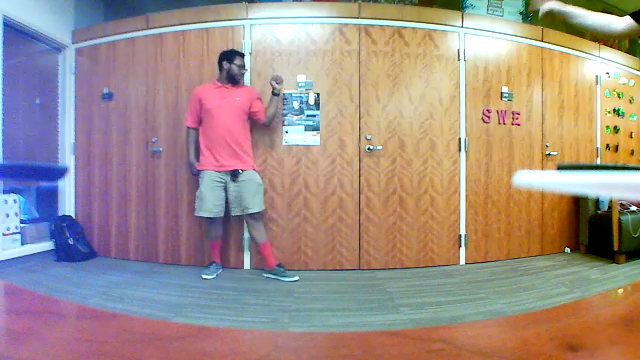up: (264, 61, 285, 96)
